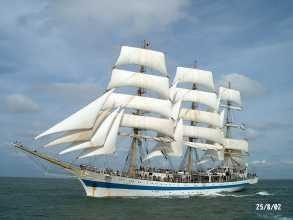fanchuan: (18, 37, 263, 198)
